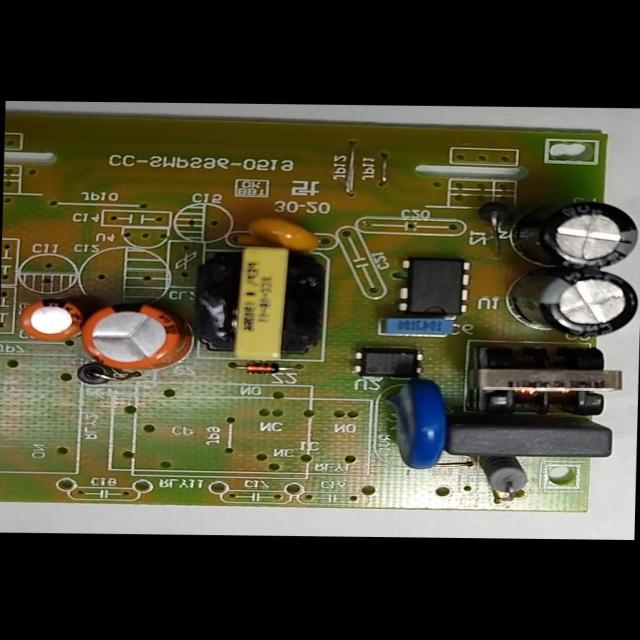Cap1: (76, 298, 200, 378)
Cap2: (14, 292, 90, 344)
Cap3: (505, 264, 639, 340)
Cap4: (494, 195, 639, 272)
MOSFET: (393, 253, 472, 322)
Mov: (375, 371, 455, 476)
Resistor: (467, 456, 540, 504)
Transformer: (188, 244, 332, 366), (468, 340, 627, 422)
